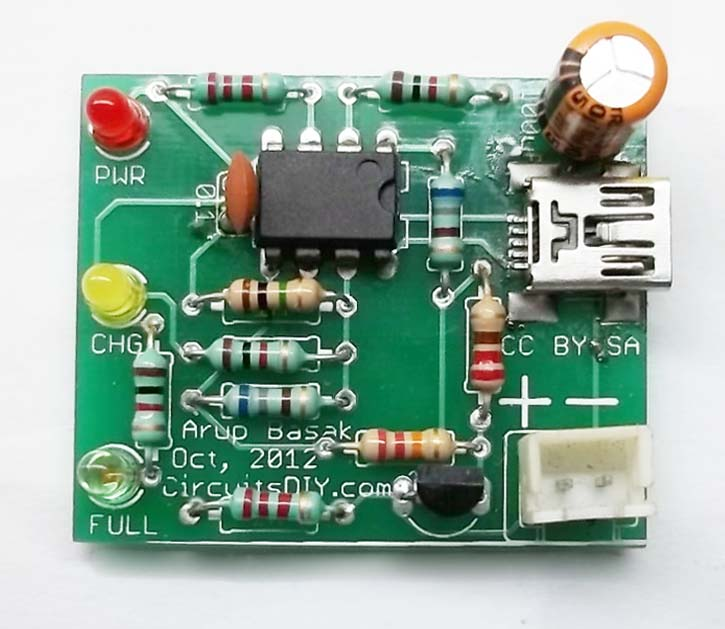Capacitor: (535, 18, 672, 164)
LED: (83, 86, 151, 155), (80, 261, 147, 326), (74, 446, 143, 506)
Resistor: (208, 274, 333, 323), (205, 484, 334, 530), (197, 332, 323, 377), (209, 378, 328, 425), (424, 166, 468, 280), (466, 289, 509, 404), (345, 425, 467, 465), (365, 68, 484, 109), (182, 71, 296, 110), (128, 341, 168, 452)
